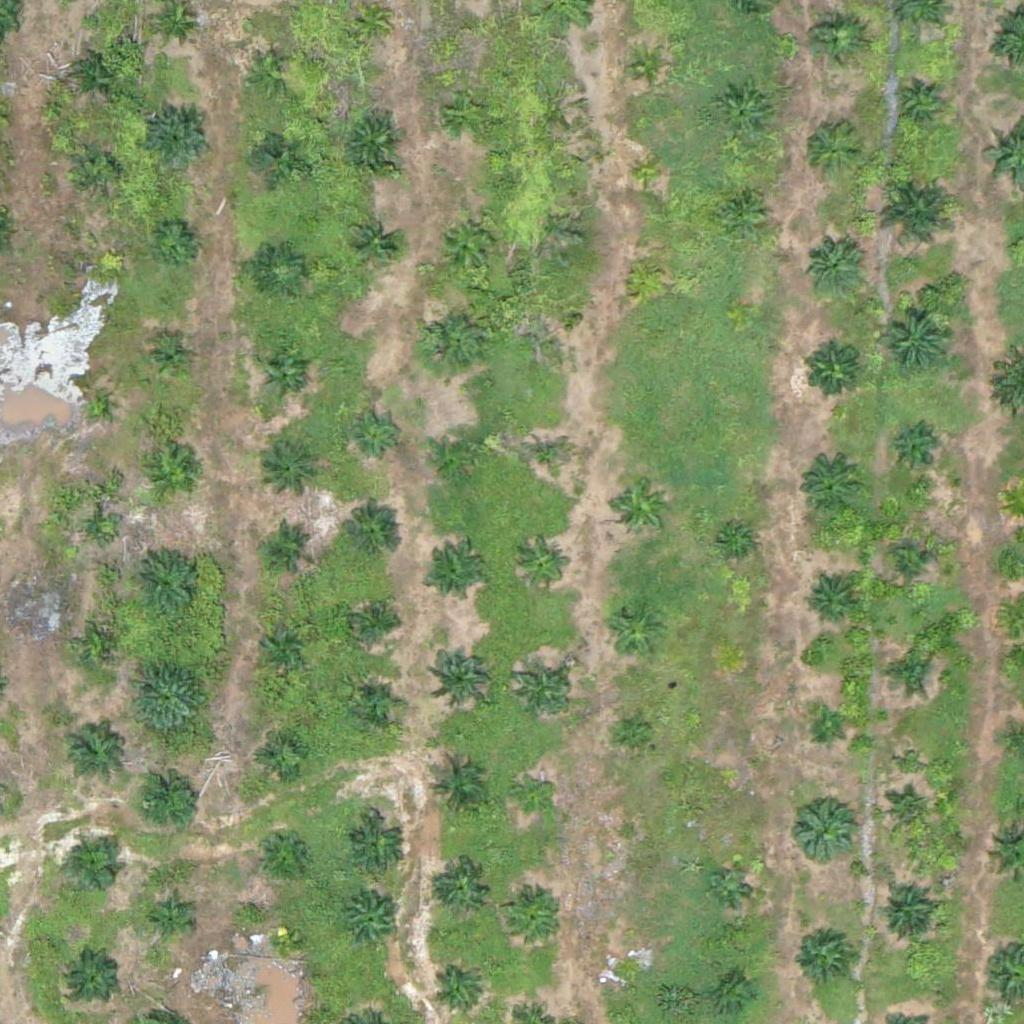Kelapa_Sawit: (874, 169, 961, 257), (127, 545, 202, 621), (131, 763, 206, 839), (131, 659, 206, 735), (877, 300, 952, 375), (791, 796, 854, 859), (60, 718, 123, 781), (602, 600, 665, 663), (345, 814, 408, 877), (800, 118, 863, 181), (803, 235, 866, 298), (261, 438, 324, 501), (419, 309, 482, 372), (609, 477, 672, 540), (148, 107, 211, 170), (714, 84, 777, 147), (340, 507, 403, 570), (424, 545, 486, 608), (792, 923, 854, 986), (425, 758, 487, 821), (512, 659, 574, 722), (428, 642, 490, 705), (797, 455, 859, 518), (801, 338, 863, 401), (875, 880, 937, 943), (343, 111, 405, 174), (437, 212, 499, 275), (342, 893, 404, 955), (518, 538, 568, 589), (803, 576, 853, 627), (880, 646, 930, 697), (255, 246, 305, 297), (253, 128, 303, 179), (73, 50, 123, 101), (74, 144, 124, 195), (150, 217, 200, 268), (348, 217, 398, 268), (522, 432, 572, 483), (434, 430, 484, 481), (352, 407, 402, 458), (260, 349, 310, 400), (71, 843, 121, 893), (67, 953, 117, 1003), (257, 826, 307, 876), (256, 730, 306, 780), (438, 861, 488, 911), (508, 893, 558, 943), (812, 17, 862, 67), (884, 426, 934, 476), (149, 451, 199, 501), (717, 185, 767, 235), (881, 789, 931, 839), (885, 540, 935, 590), (443, 88, 493, 138), (246, 48, 296, 98), (350, 596, 400, 646), (352, 680, 402, 730), (258, 616, 308, 666), (263, 521, 313, 571), (145, 334, 195, 384), (433, 965, 483, 1015), (893, 78, 942, 129), (149, 899, 187, 937), (628, 48, 666, 86), (630, 155, 668, 193), (626, 255, 664, 293), (352, 2, 390, 40), (717, 526, 755, 564), (513, 778, 551, 816), (611, 961, 649, 999), (716, 977, 753, 1015), (808, 709, 845, 747), (450, 9, 487, 47), (533, 307, 570, 345), (616, 715, 653, 752), (711, 865, 748, 902), (89, 636, 114, 662), (82, 391, 107, 416), (87, 519, 112, 544), (270, 927, 295, 952)
